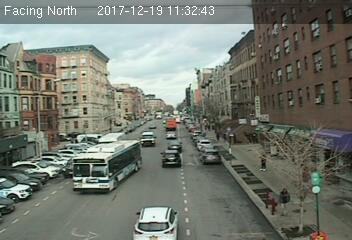bus: (73, 139, 144, 192)
car: (132, 202, 181, 240), (199, 148, 221, 165), (159, 150, 181, 166), (166, 140, 181, 150)
truck: (139, 130, 155, 147)
